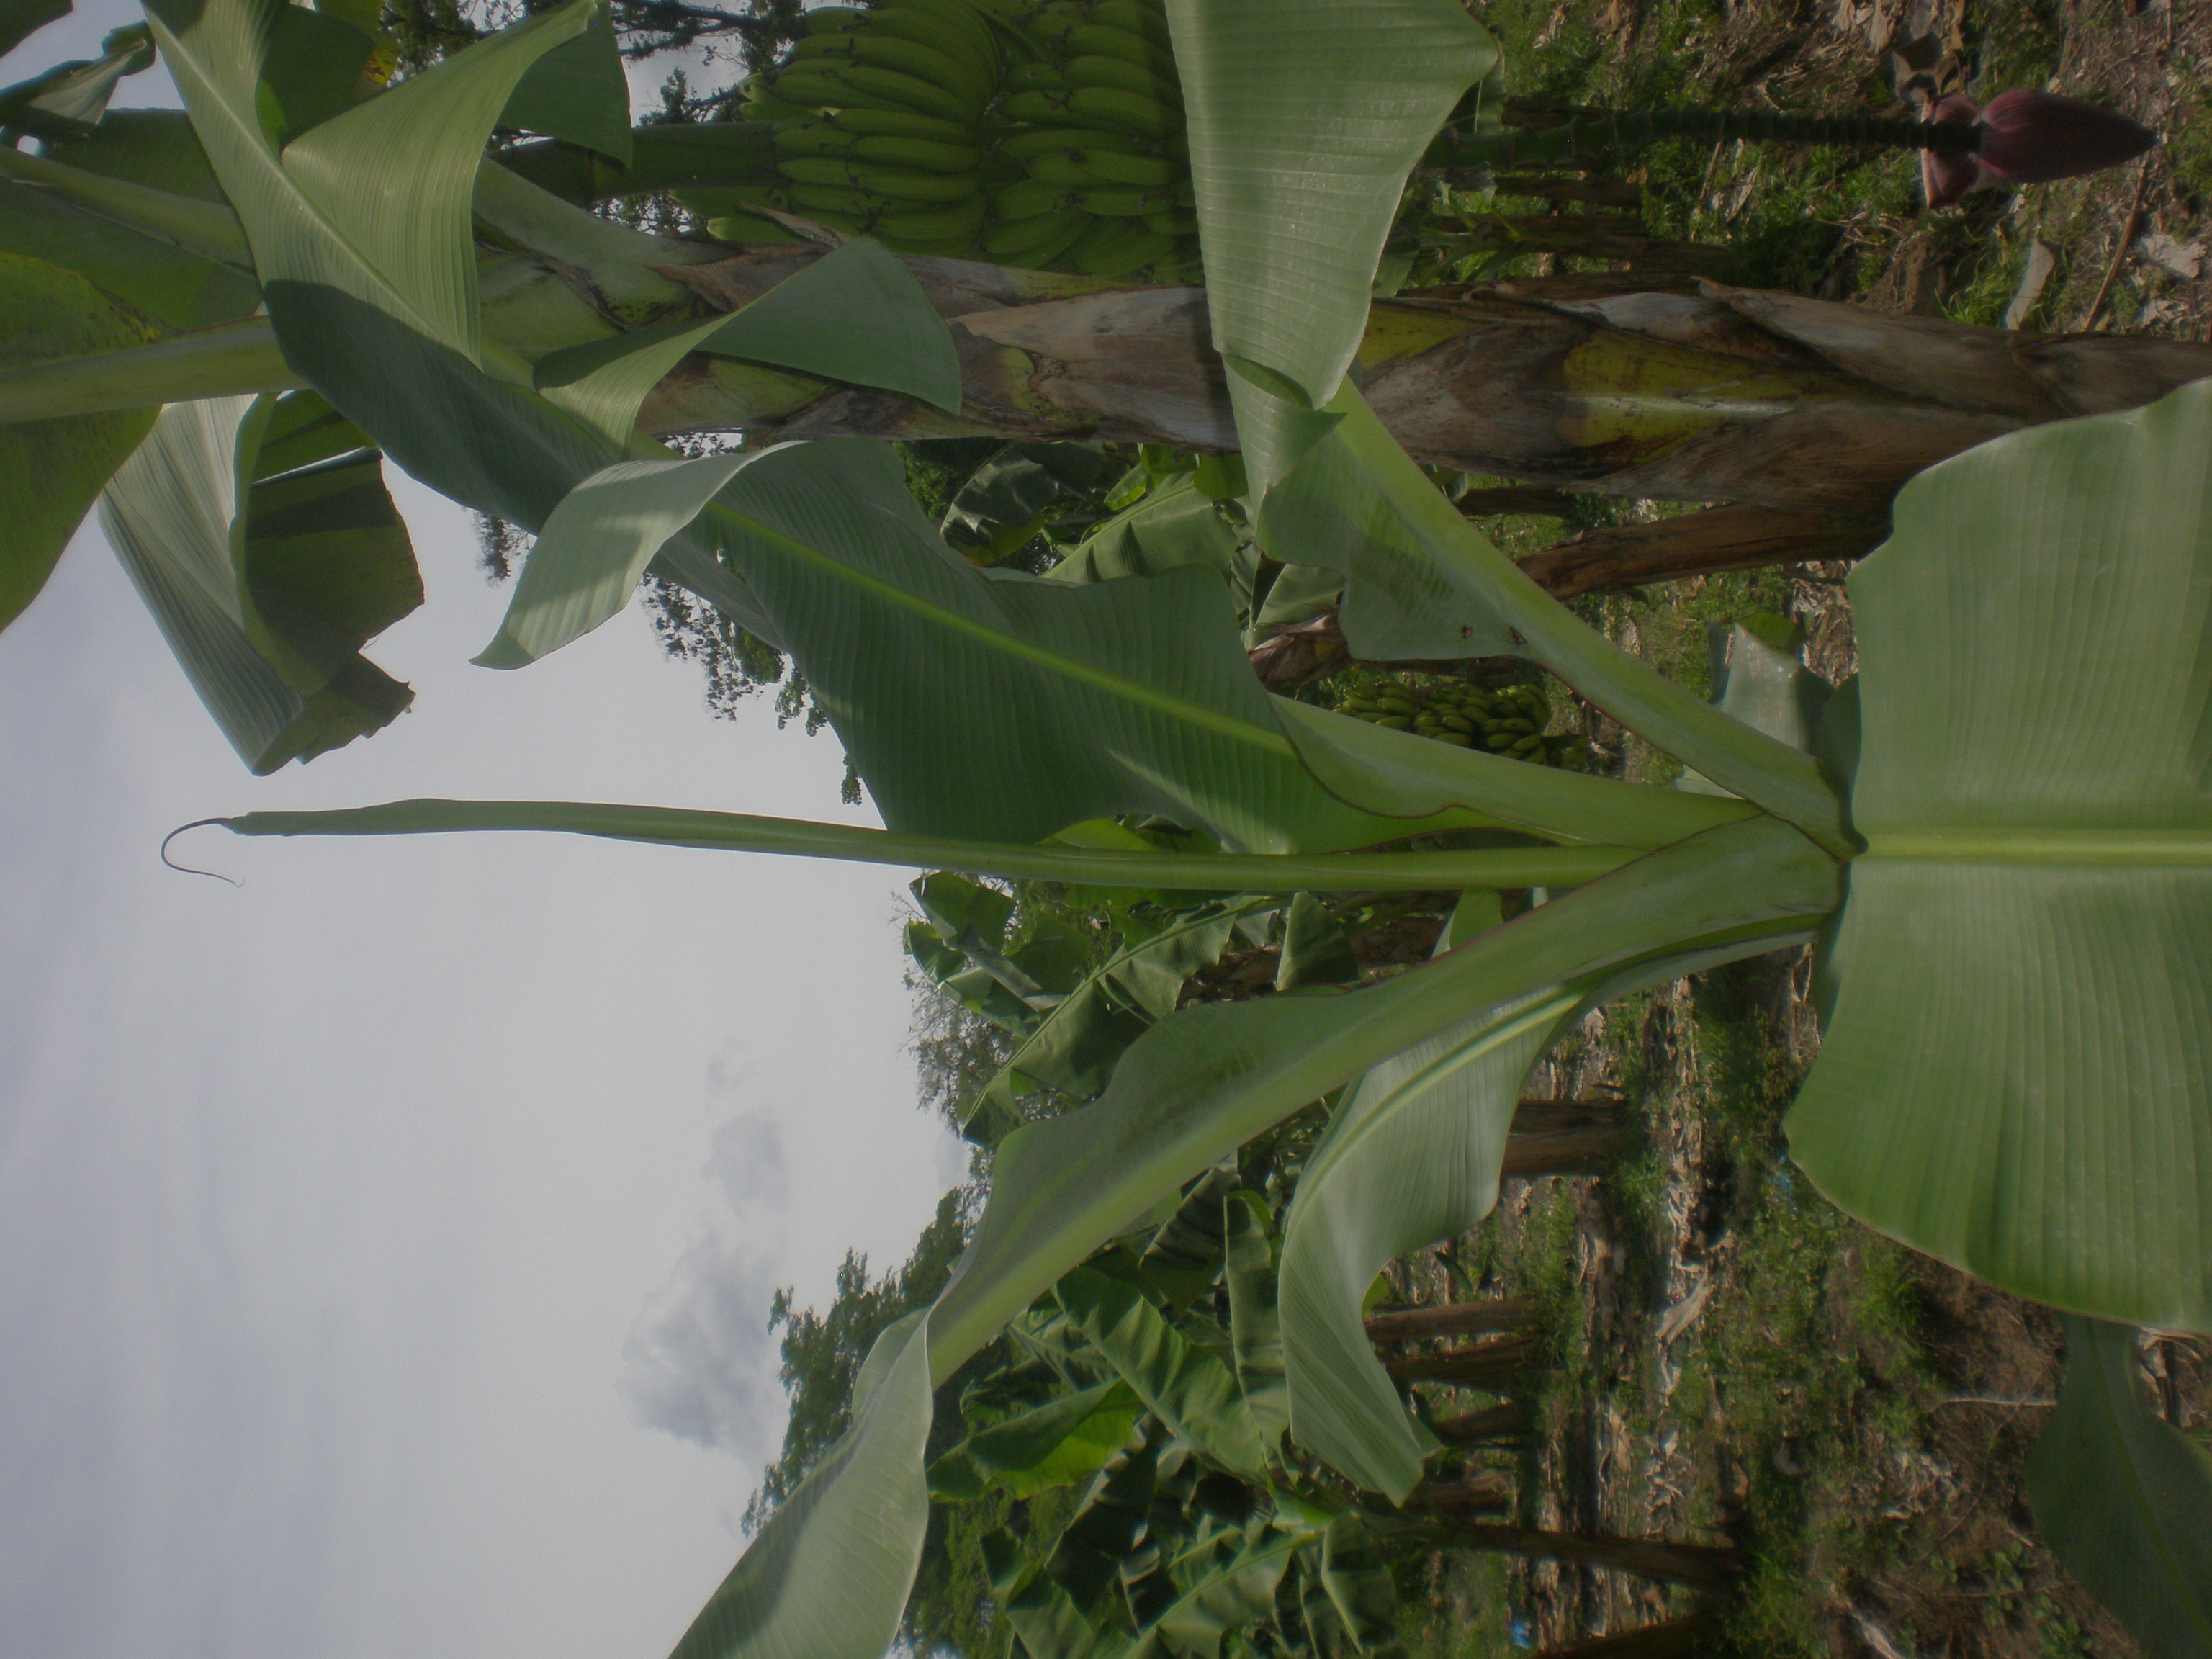candleleafs: (158, 798, 1576, 904)
